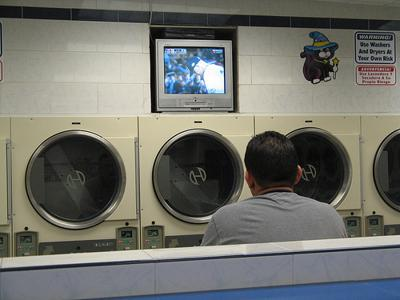person: (199, 131, 348, 251)
